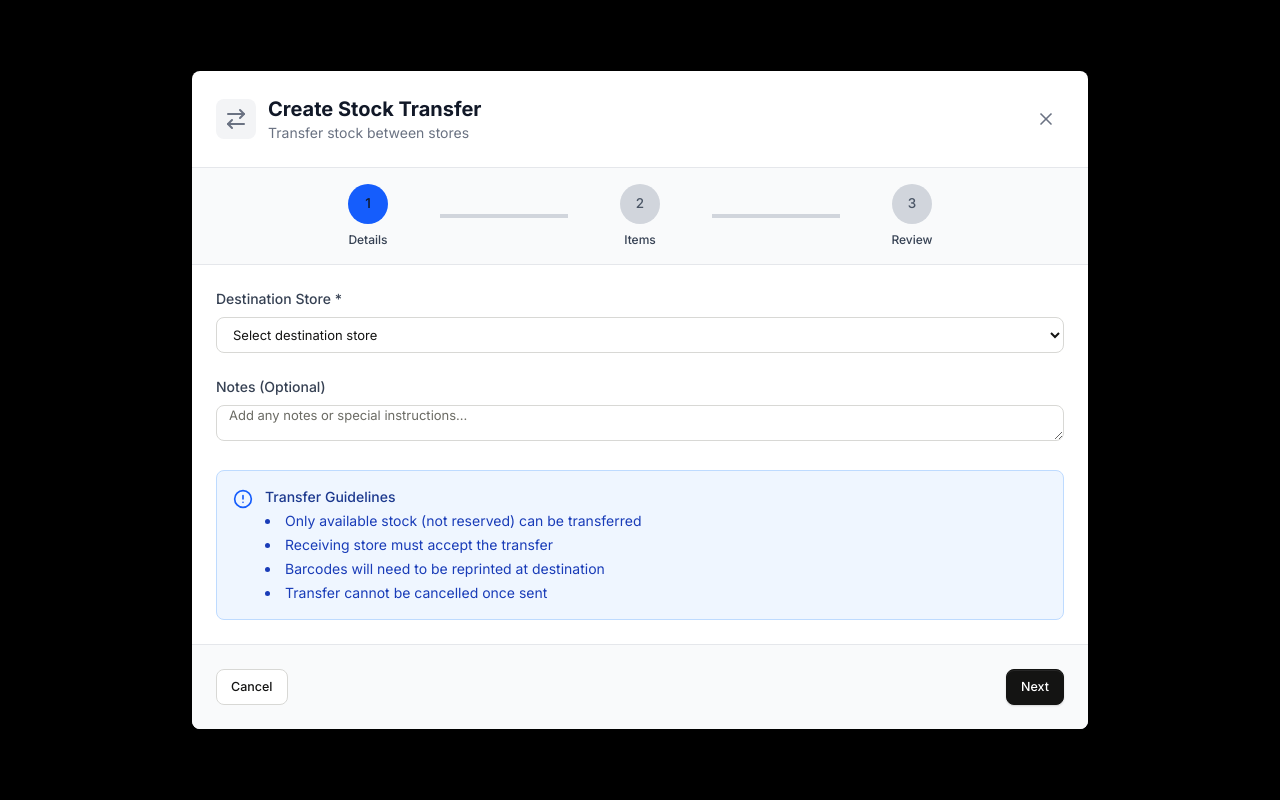
it: New transfer: item search by a unit code › BV--91FA3858 finds its product
Select "Bokaro (BOK)" in the dropdown named "Destination Store" at (640, 335), box x1=216 y1=317 x2=1064 y2=353
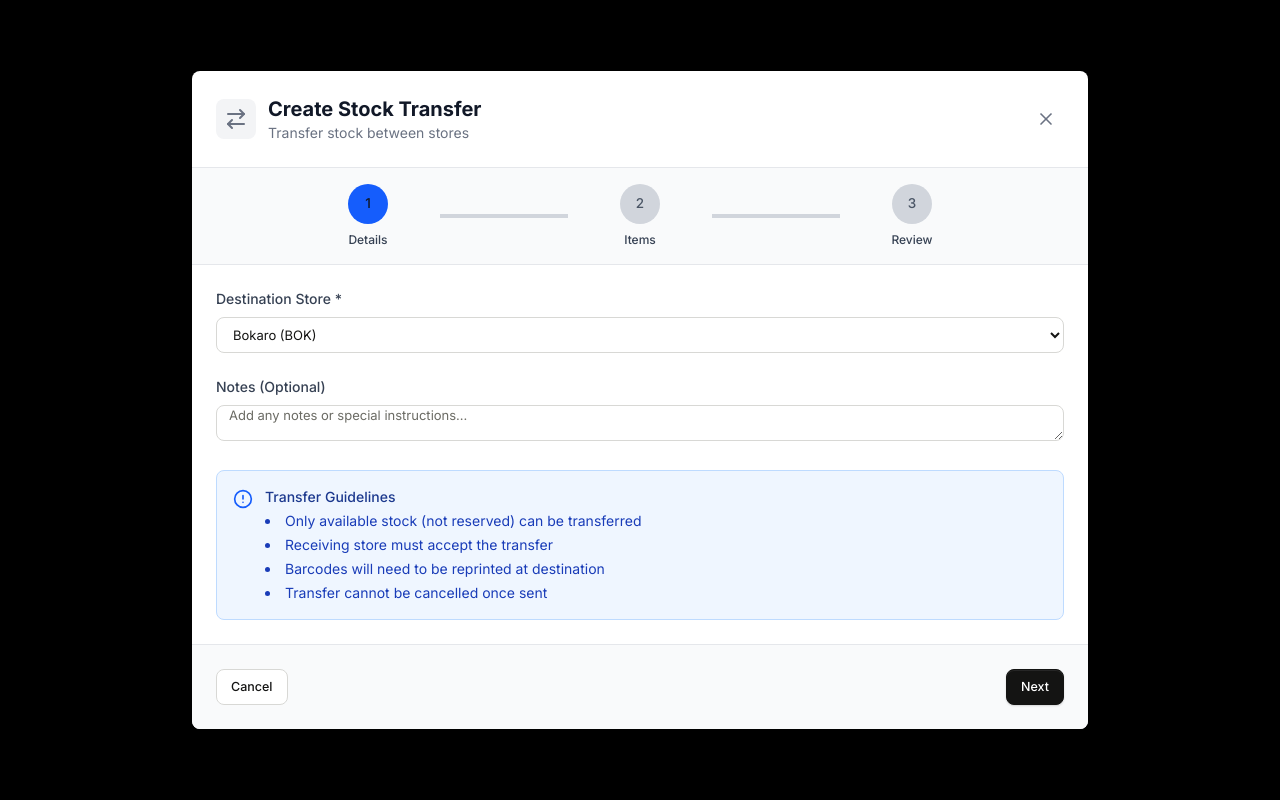
Click the button "Next" at (1035, 687), box x1=1006 y1=669 x2=1064 y2=705
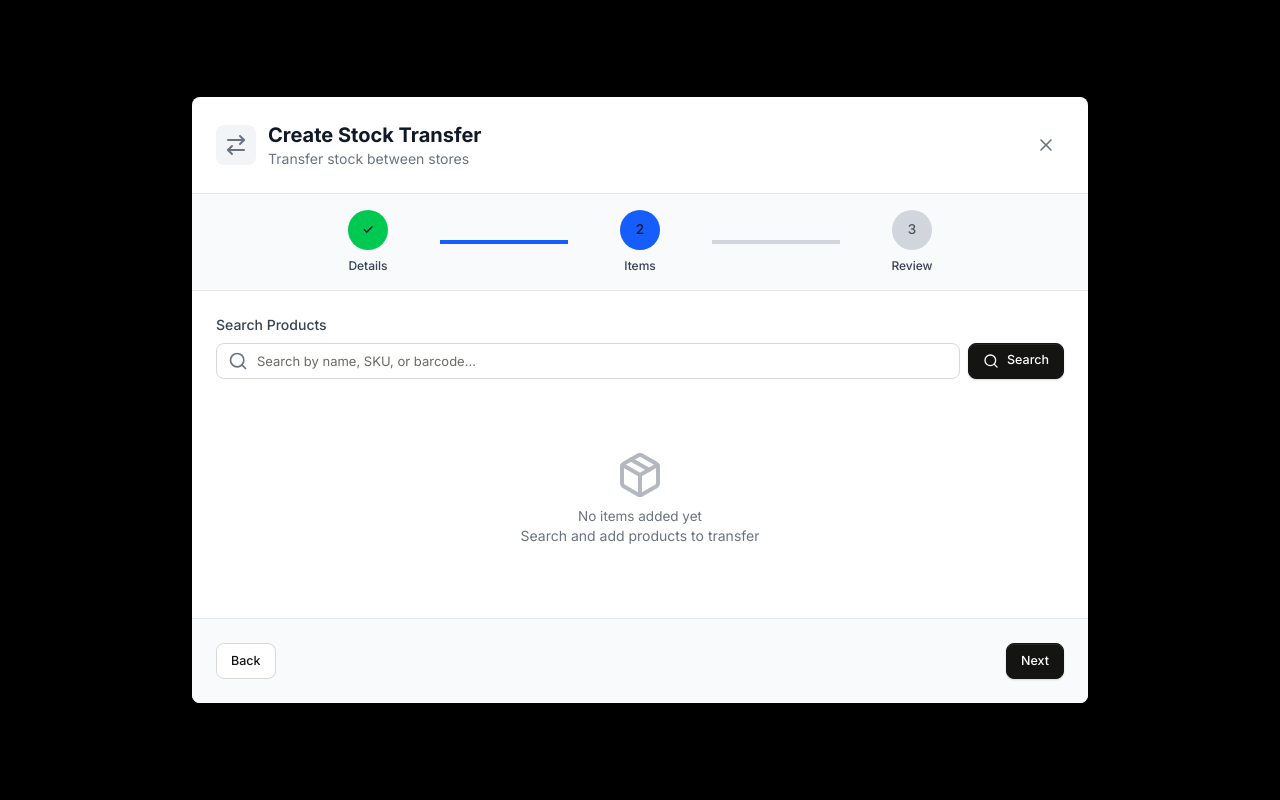
Type "BV--91FA3858" into the field with placeholder "Search by name, SKU, or barcode..." at (588, 361), box x1=216 y1=343 x2=960 y2=379
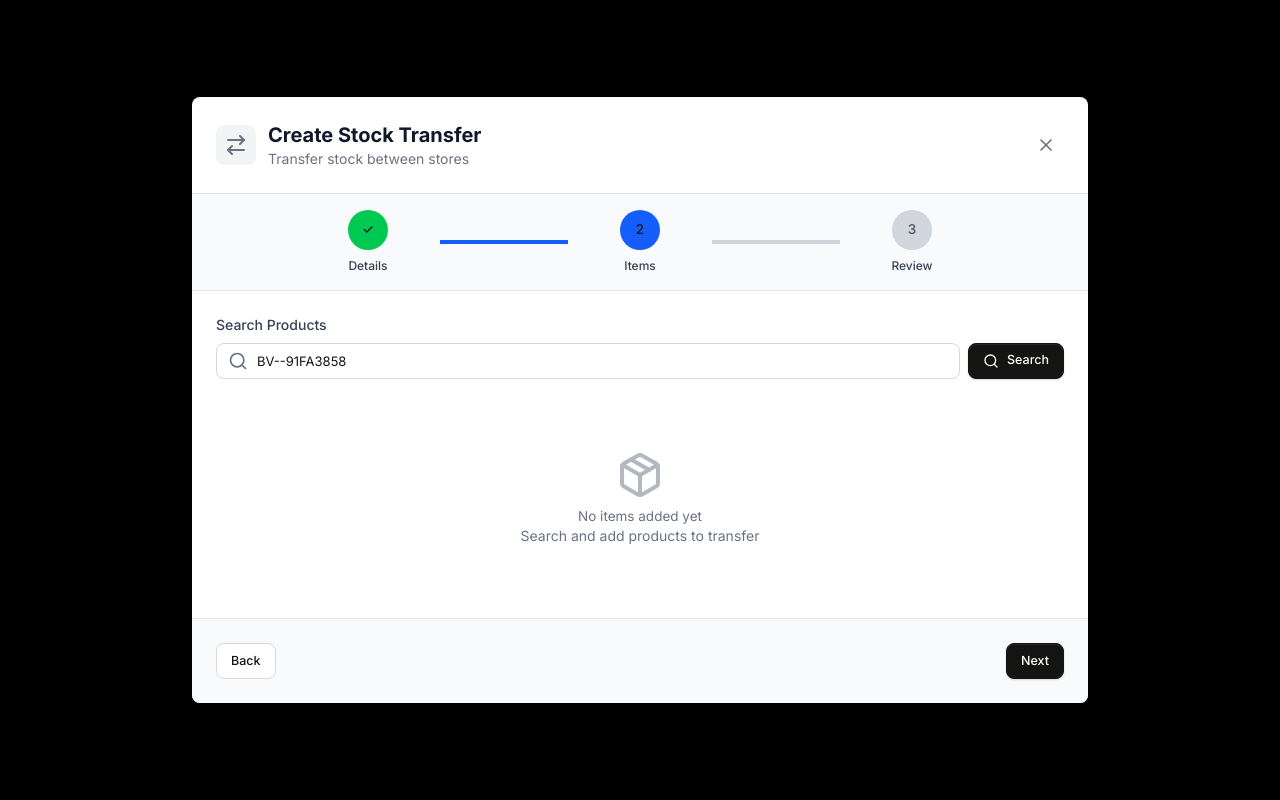
Click the button "Search" at (1016, 361), box x1=968 y1=343 x2=1064 y2=379
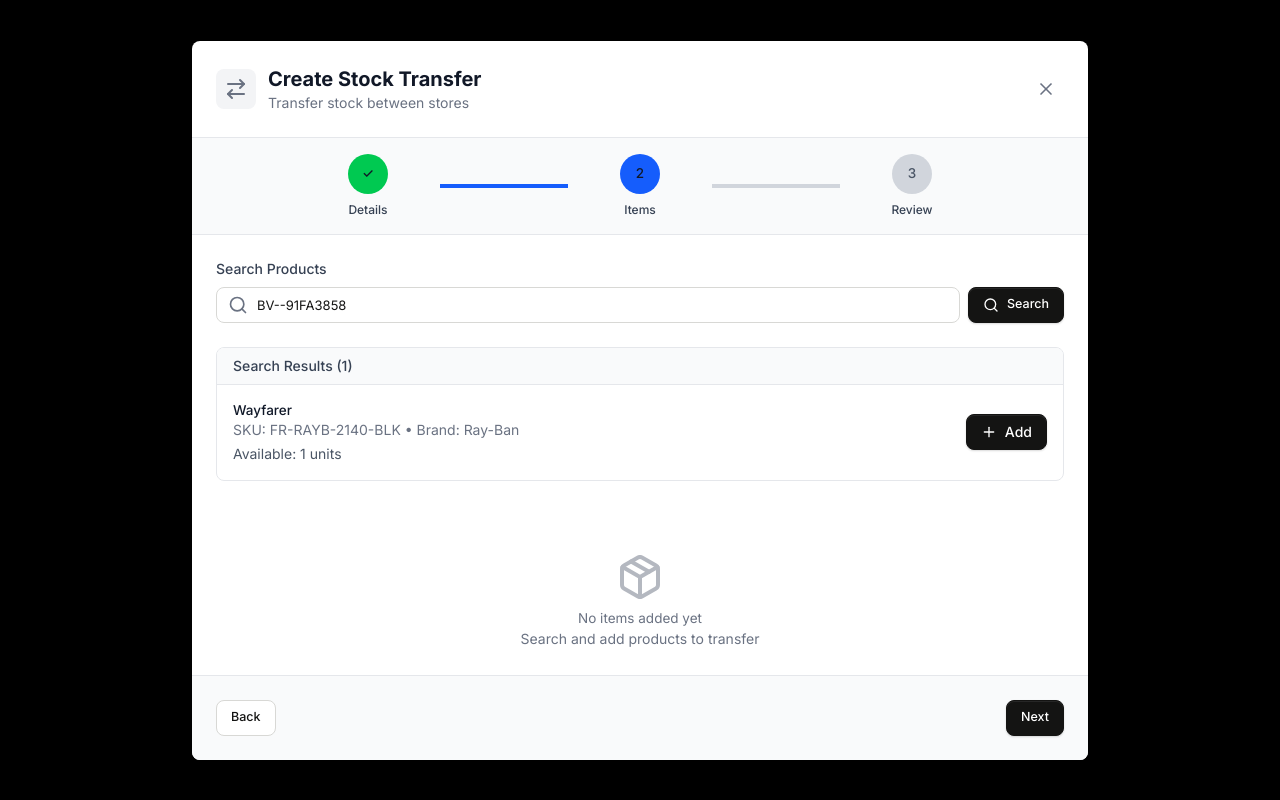
Now the text "Wayfarer" is shown, box x1=233 y1=402 x2=292 y2=418
